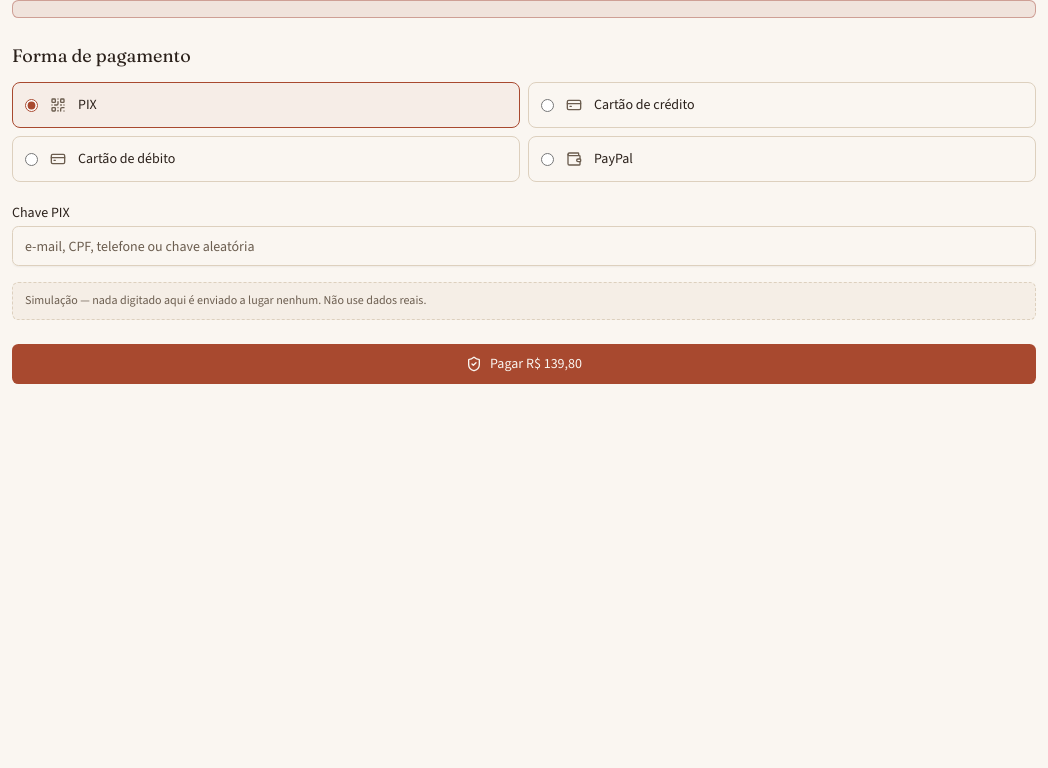
CheckoutForm › refuses a card number that could not be one
Click the radio button labelled "Cartão de crédito". click: (548, 105)
box: [541, 98, 554, 112]
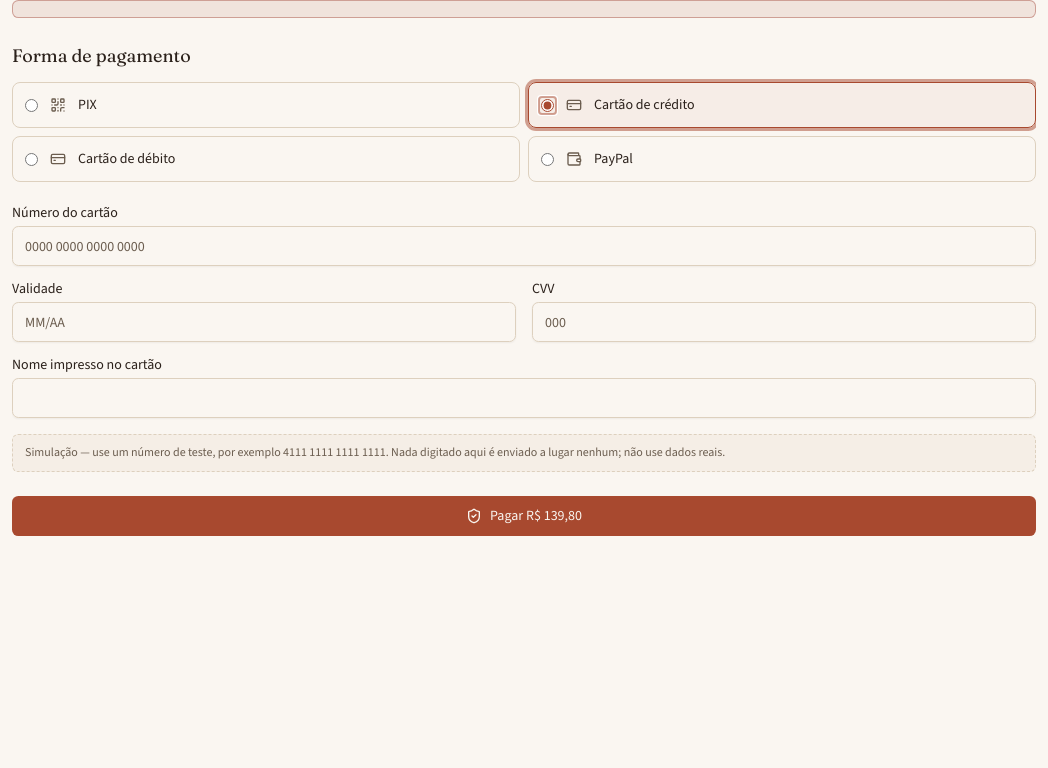
Type "1234567812345678" into the field labelled "Número do cartão". click: (524, 246)
box: [12, 226, 1036, 266]
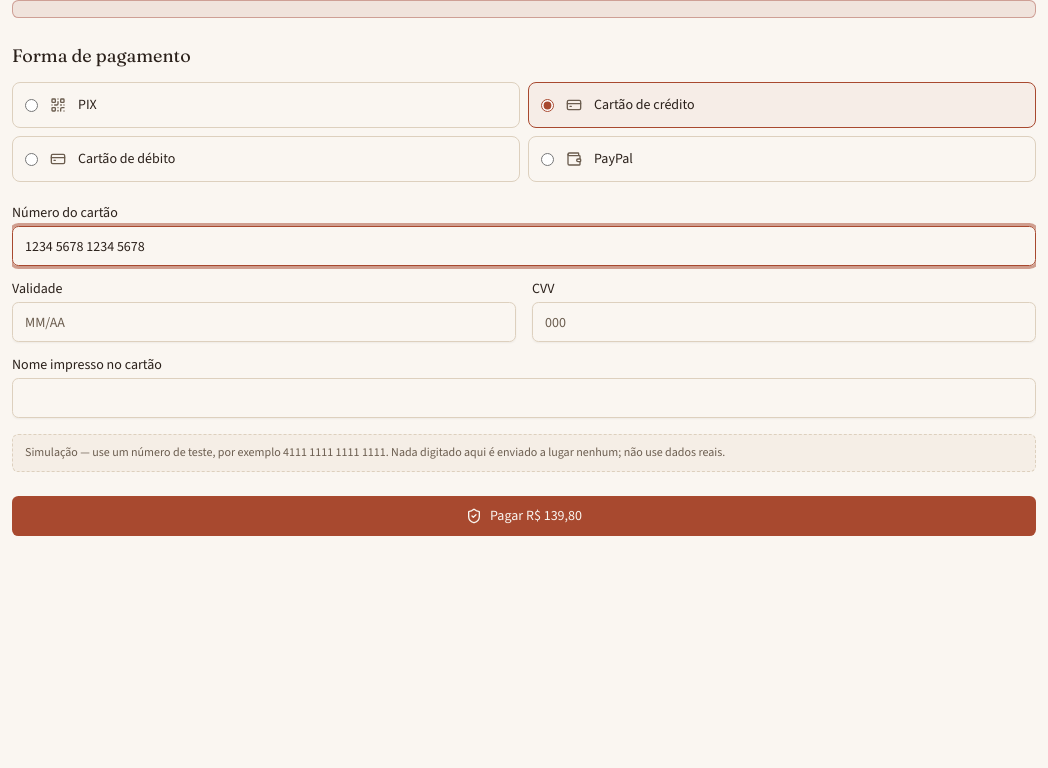
Type "1231" into the field labelled "Validade". click: (264, 322)
box: [12, 302, 516, 342]
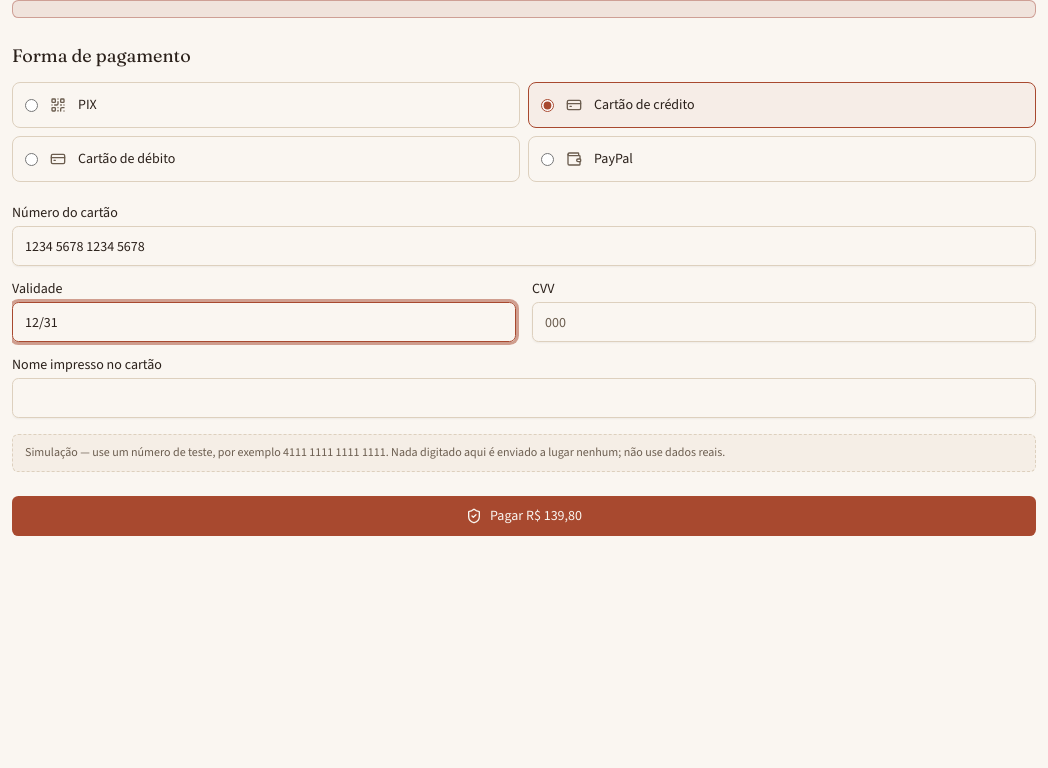
Type "123" into the field labelled "CVV". click: (784, 322)
box: [532, 302, 1036, 342]
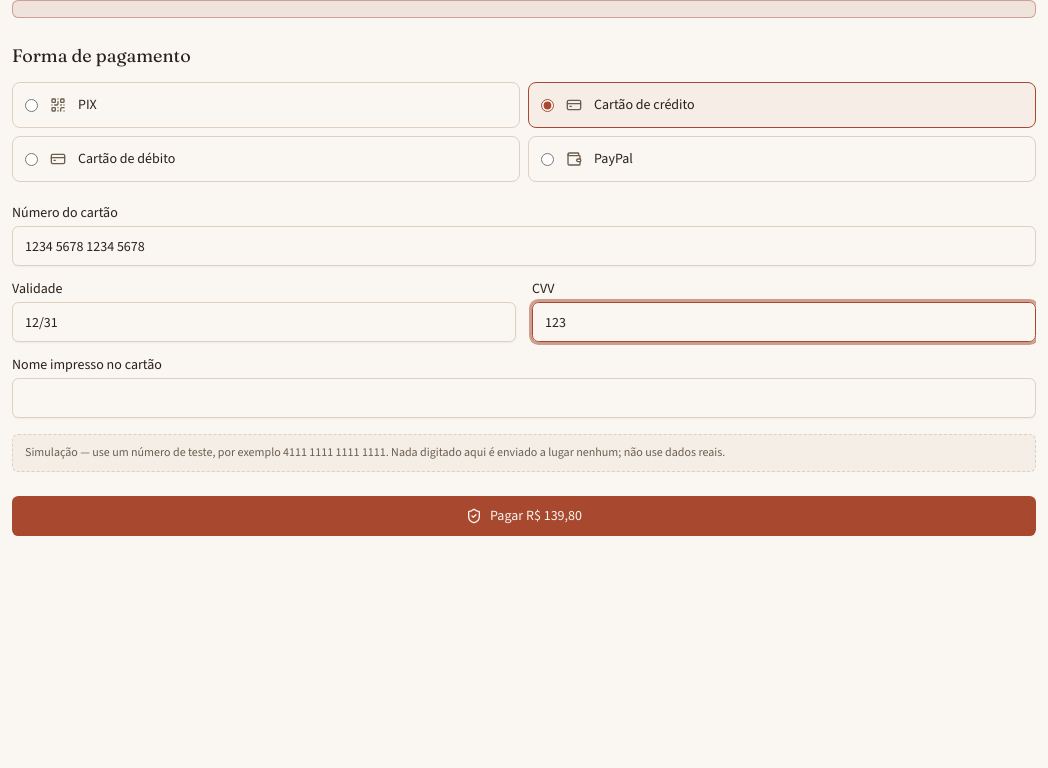
Type "João da Silva" into the field labelled "Nome impresso no cartão". click: (524, 398)
box: [12, 378, 1036, 418]
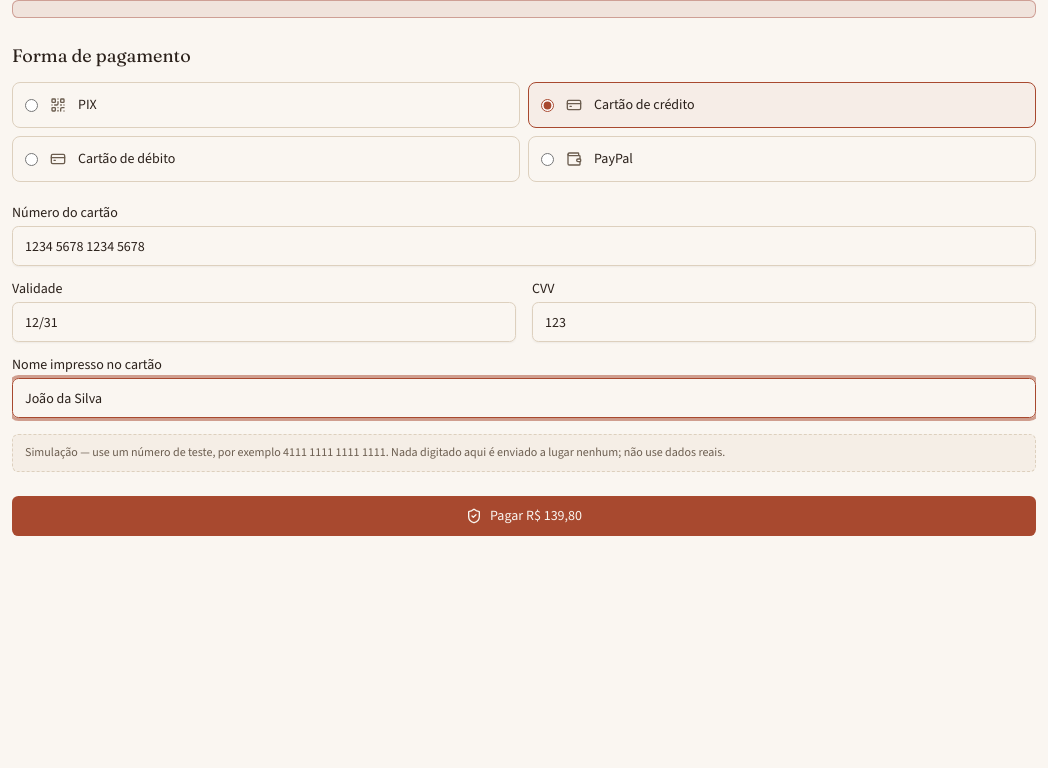
Click the button "Pagar R$ 139,80". click: (524, 516)
box: [12, 496, 1036, 536]
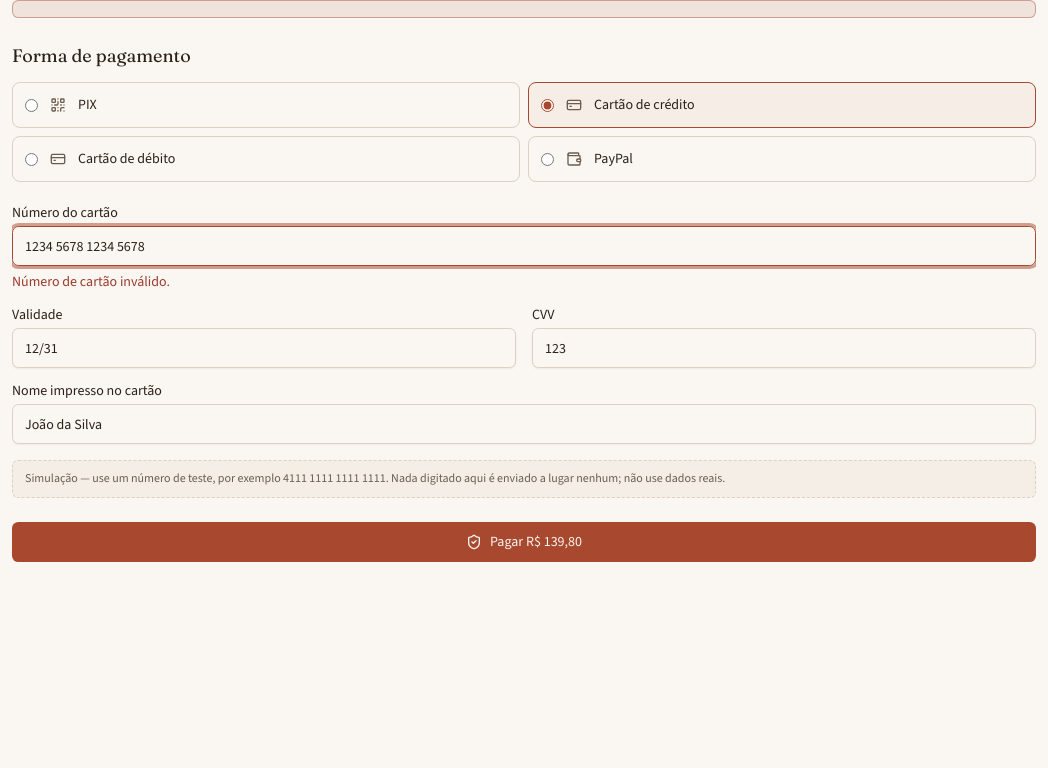
expect the text "Número de cartão inválido." is shown: met, box [12, 272, 170, 291]
